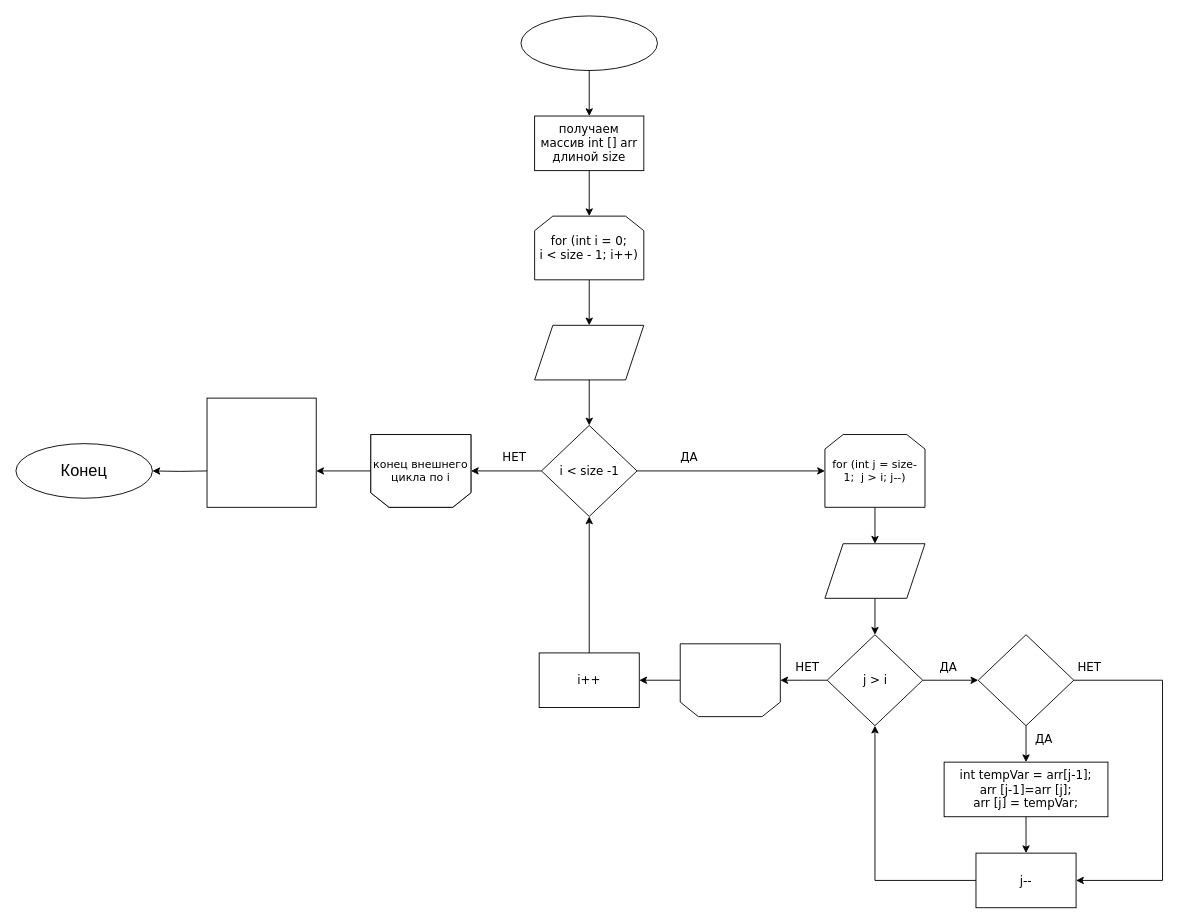
Some shapes in this 1186 by 924 pixel diagram are drawn without their labels. Each missing label, with the centre of its shape:
"arr[j-1]>arr[j]" belongs at point (1025, 680).
"i =0" belongs at point (589, 352).
"j =size-1" belongs at point (874, 570).
"конец внутреннего цикла по j" belongs at point (729, 680).
"Начало" belongs at point (588, 43).
"получаем отсортированный массив int [] arr" belongs at point (261, 452).
